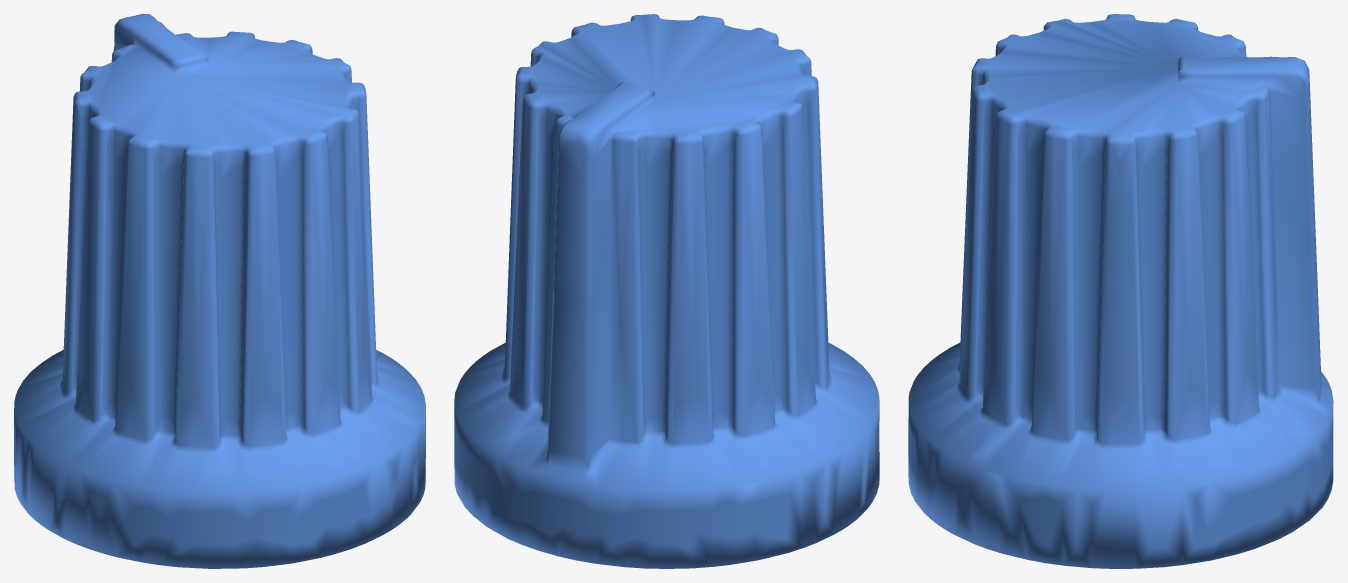
The model's file is knob_pot10.glb.
The picture shows the model from 3 angles, left to right: view 1: azimuth 30°, elevation 25°; view 2: azimuth 150°, elevation 25°; view 3: azimuth 270°, elevation 25°; orthographic projection. The views are drawn at different scales.
Visible parts, largest first — view 1: pot10; view 2: pot10; view 3: pot10.
Part boxes in pixels (left/top/right/bottom): pot10: left=14, top=14, right=425, bottom=568; pot10: left=454, top=14, right=879, bottom=568; pot10: left=908, top=14, right=1333, bottom=568.
Bounding box in the file's own units: 14.8 × 16 × 14.81.
